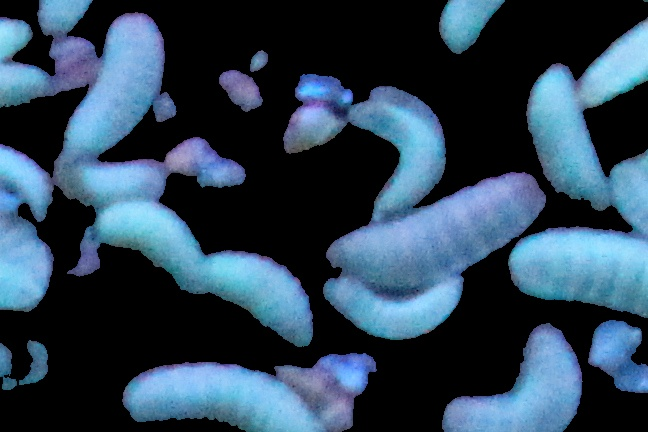larvae: (326, 175, 541, 277), (57, 12, 175, 161), (440, 324, 580, 432), (124, 357, 324, 432), (525, 63, 618, 212), (507, 228, 648, 315), (341, 87, 444, 206), (90, 197, 210, 297), (207, 242, 312, 344), (323, 275, 469, 340), (576, 21, 648, 113), (62, 153, 166, 201), (437, 1, 506, 56)
